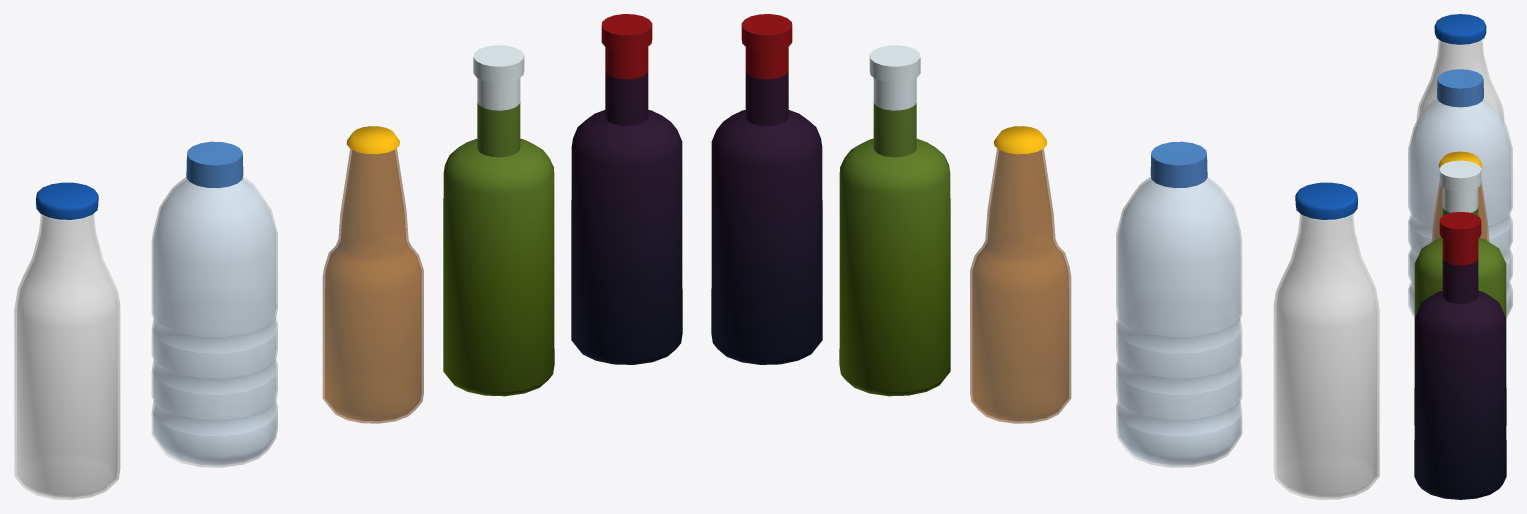
File: drinks.fbx
3 renders of one model, left to right at view 1: azimuth 30°, elevation 25°; view 2: azimuth 150°, elevation 25°; view 3: azimuth 270°, elevation 25°, orthographic. The views are drawn at different scales.
Visible parts, largest first — view 1: bottle, bottle_Inside, wine_1, wine_2, milk, milk_Inside, beer, beer_Inside, bottle_Cap, milk_Cap, wine_2_Cap, wine_1_Cap (+1 smaller); view 2: bottle, bottle_Inside, wine_1, wine_2, milk, milk_Inside, beer, beer_Inside, bottle_Cap, milk_Cap, wine_2_Cap, wine_1_Cap (+1 smaller); view 3: wine_2, bottle, bottle_Inside, wine_1, milk, milk_Inside, bottle_Cap, milk_Cap, wine_2_Cap, wine_1_Cap, beer, beer_Inside (+1 smaller).
Boxes of the visible parts, x1=… form: bottle: x1=151, y1=177, x2=277, y2=467; bottle_Inside: x1=154, y1=180, x2=275, y2=464; wine_1: x1=443, y1=78, x2=554, y2=396; wine_2: x1=571, y1=47, x2=682, y2=364; milk: x1=14, y1=213, x2=120, y2=499; milk_Inside: x1=18, y1=216, x2=116, y2=496; beer: x1=322, y1=148, x2=423, y2=423; beer_Inside: x1=326, y1=150, x2=420, y2=419; bottle_Cap: x1=186, y1=141, x2=243, y2=188; milk_Cap: x1=36, y1=182, x2=98, y2=219; wine_2_Cap: x1=601, y1=14, x2=652, y2=51; wine_1_Cap: x1=473, y1=45, x2=524, y2=82; bottle: x1=1116, y1=177, x2=1242, y2=467; bottle_Inside: x1=1118, y1=180, x2=1239, y2=464; wine_1: x1=839, y1=78, x2=950, y2=396; wine_2: x1=711, y1=47, x2=822, y2=364; milk: x1=1273, y1=213, x2=1379, y2=499; milk_Inside: x1=1277, y1=216, x2=1375, y2=496; beer: x1=970, y1=148, x2=1071, y2=423; beer_Inside: x1=973, y1=150, x2=1067, y2=419; bottle_Cap: x1=1150, y1=141, x2=1207, y2=188; milk_Cap: x1=1295, y1=182, x2=1357, y2=219; wine_2_Cap: x1=741, y1=14, x2=792, y2=51; wine_1_Cap: x1=869, y1=45, x2=920, y2=82; wine_2: x1=1414, y1=238, x2=1506, y2=499; bottle: x1=1408, y1=98, x2=1512, y2=317; bottle_Inside: x1=1410, y1=101, x2=1510, y2=313; wine_1: x1=1414, y1=187, x2=1506, y2=425; milk: x1=1416, y1=39, x2=1504, y2=121; milk_Inside: x1=1420, y1=41, x2=1500, y2=114; bottle_Cap: x1=1437, y1=69, x2=1483, y2=107; milk_Cap: x1=1434, y1=14, x2=1486, y2=44; wine_2_Cap: x1=1439, y1=212, x2=1481, y2=242; wine_1_Cap: x1=1439, y1=160, x2=1481, y2=191; beer: x1=1431, y1=181, x2=1489, y2=241; beer_Inside: x1=1434, y1=187, x2=1486, y2=239.
Bounding box in the file's own units: 3.11 × 0.525 × 1.45.
